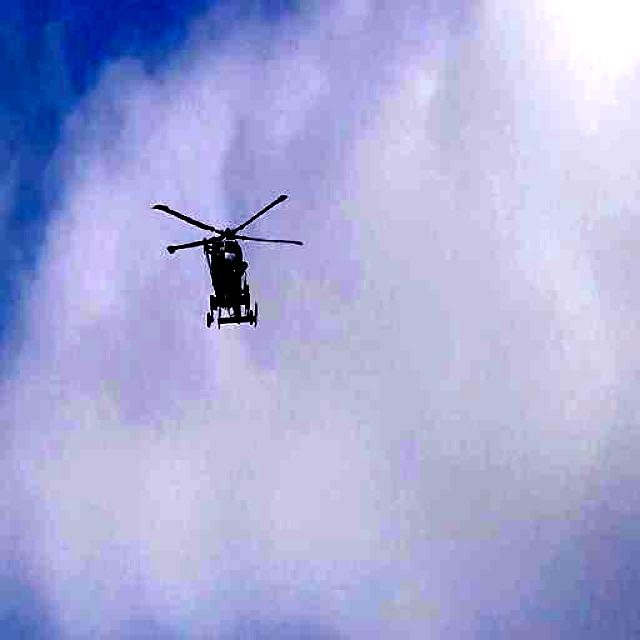drone: (142, 171, 331, 346)
